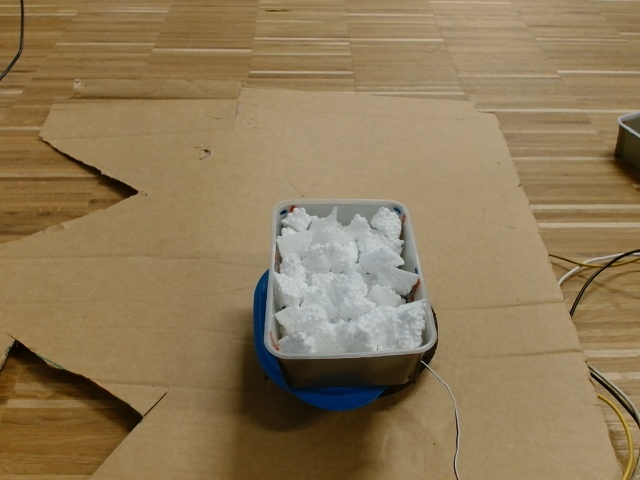Small_threequarter: (266, 194, 438, 363)
